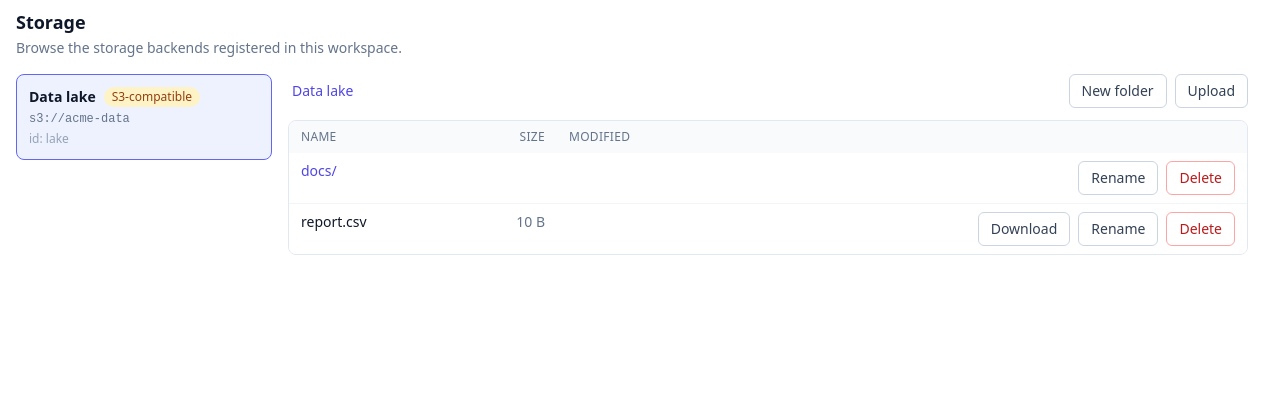
Test case: creating a folder › shows a server refusal and keeps the form open
This screenshot has width=1265, height=414.
expect the text "report.csv" is shown: met, box [301, 212, 367, 231]
Click the button "New folder" at point(1118, 91), box [1068, 74, 1167, 108]
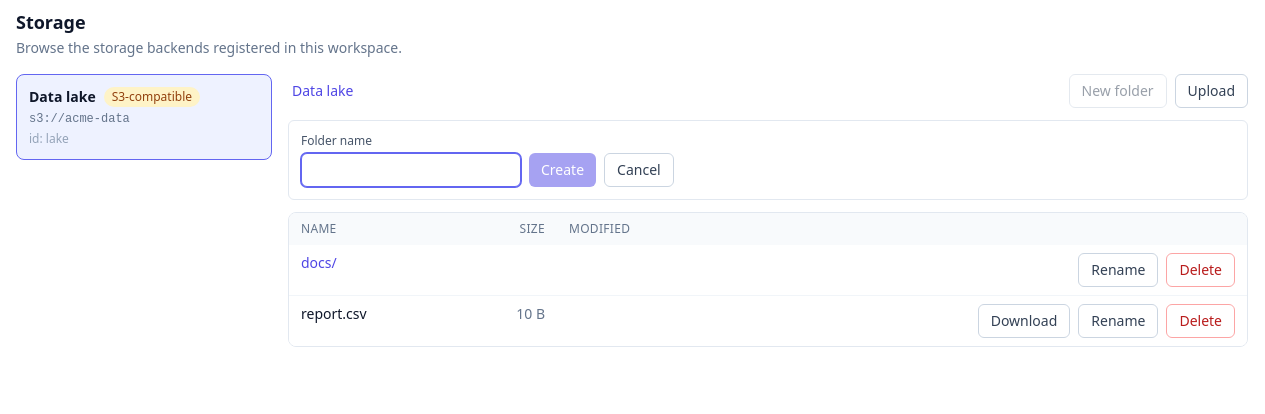
Type "docs" into the field labelled "Folder name" at point(411, 170), box [301, 153, 521, 187]
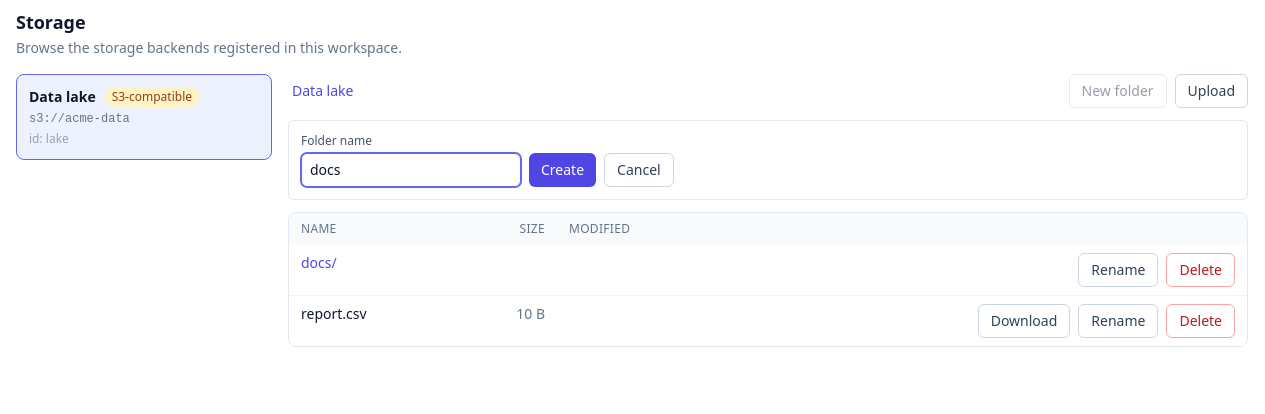
Click the button "Create" at point(563, 170), box [529, 153, 596, 187]
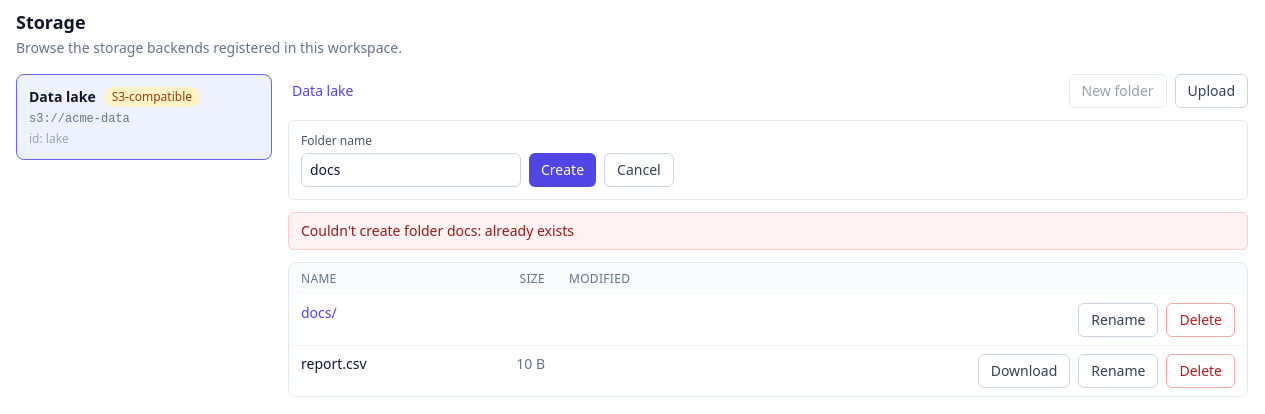
expect the form named "New folder" is shown: met, box [288, 120, 1248, 200]
expect the text "Couldn't create folder docs: already exists" is shown: met, box [288, 212, 1248, 250]
